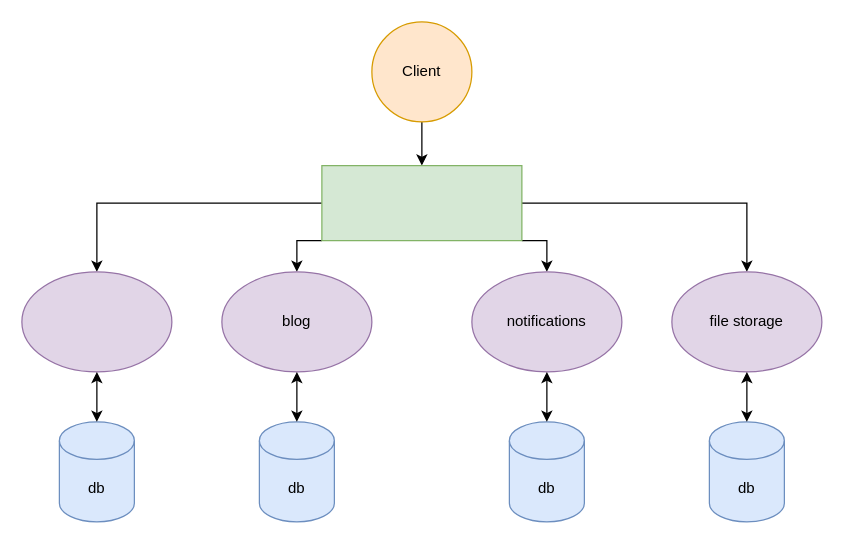
Image size: 844x544. Some labels were removed from this diagram. The box of each missing label's shape, as (x1, y1, x2, y2) in pixels:
API: (321, 164, 522, 241)
users: (21, 271, 172, 372)
